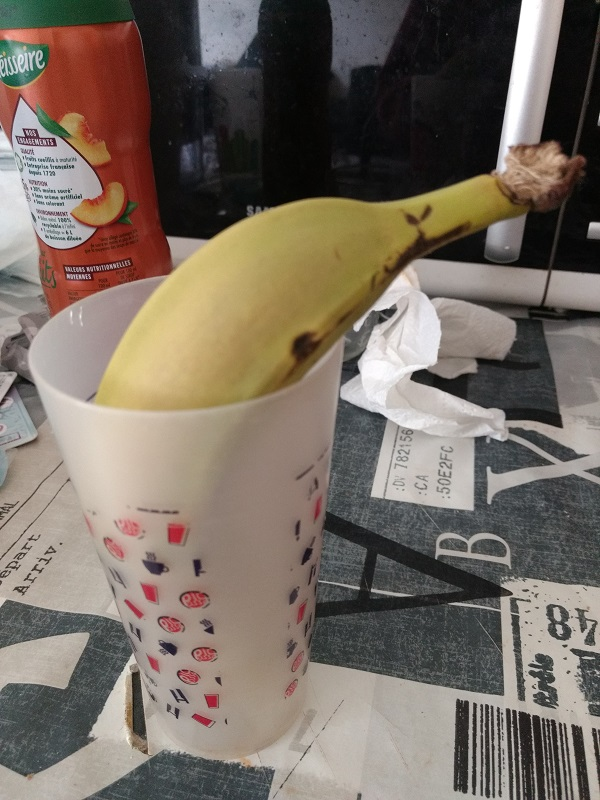ecocup: (26, 267, 344, 759)
